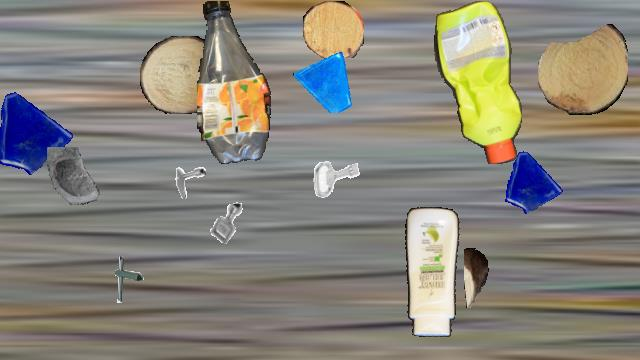glass: (0, 85, 75, 175), (41, 147, 109, 215), (499, 148, 565, 214), (293, 50, 355, 112)
metal: (305, 148, 365, 208), (199, 195, 255, 251), (100, 253, 152, 305), (164, 156, 206, 198)
plastic: (433, 1, 523, 163), (197, 1, 273, 163), (398, 207, 462, 337)
wood: (538, 23, 628, 115), (140, 36, 222, 114), (303, 1, 363, 59), (464, 248, 488, 308)
